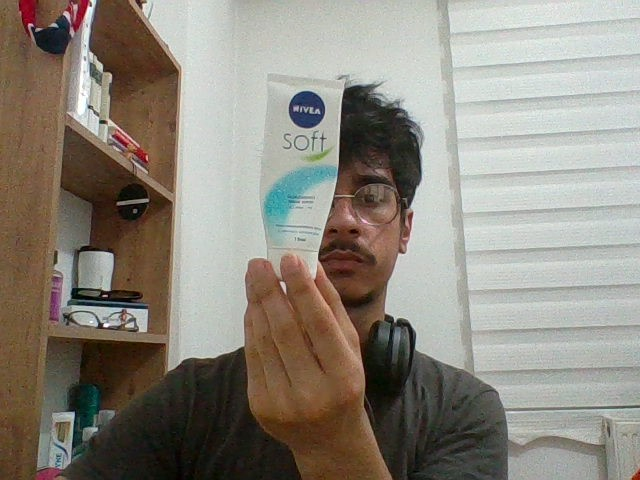NiveaSoft: (263, 73, 333, 283)
